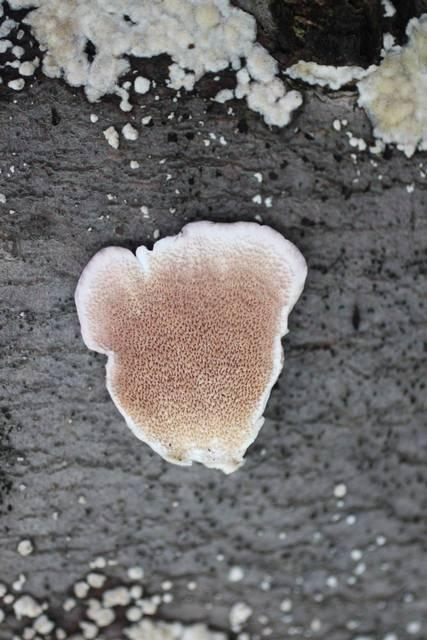poisonous_mushroom: (72, 218, 309, 475)
